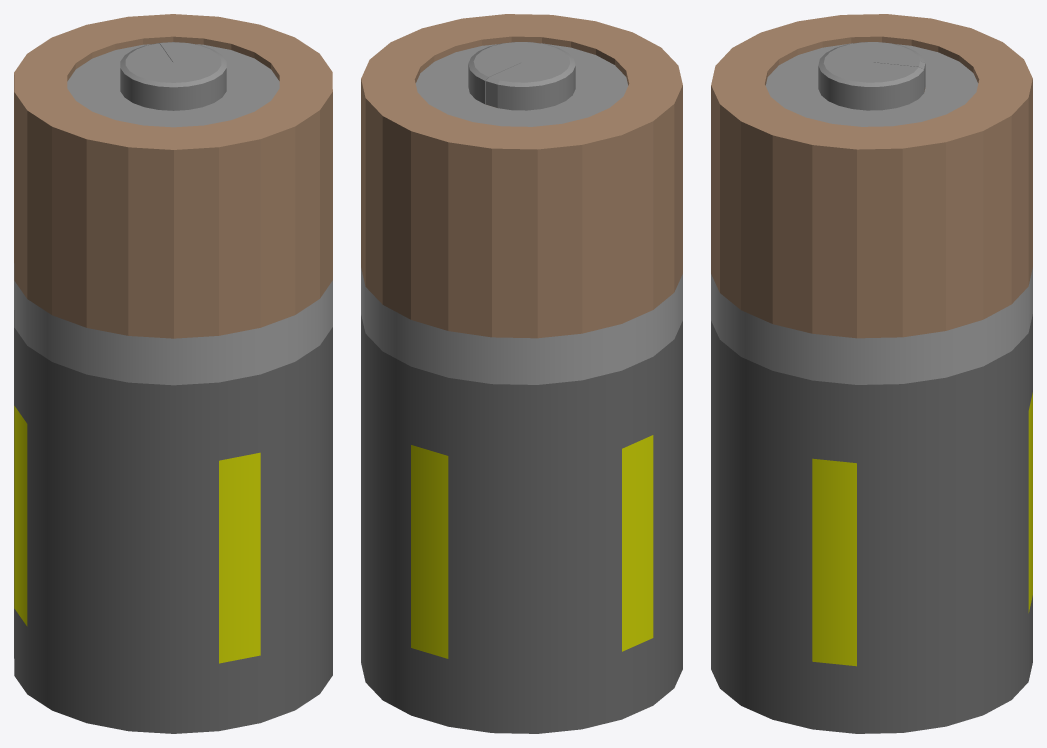
Rendered from Large Battery.fbx.
The picture shows the model from 3 angles, left to right: view 1: azimuth 30°, elevation 25°; view 2: azimuth 150°, elevation 25°; view 3: azimuth 270°, elevation 25°; orthographic projection.
Parts seen in each view (by area): view 1: Battery2; view 2: Battery2; view 3: Battery2.
Part boxes in pixels (left/top/right/bottom): Battery2: left=14, top=14, right=332, bottom=733; Battery2: left=361, top=14, right=682, bottom=733; Battery2: left=711, top=14, right=1032, bottom=733.
Size of the model in its own units: 3.81 by 8.06 by 3.83.
